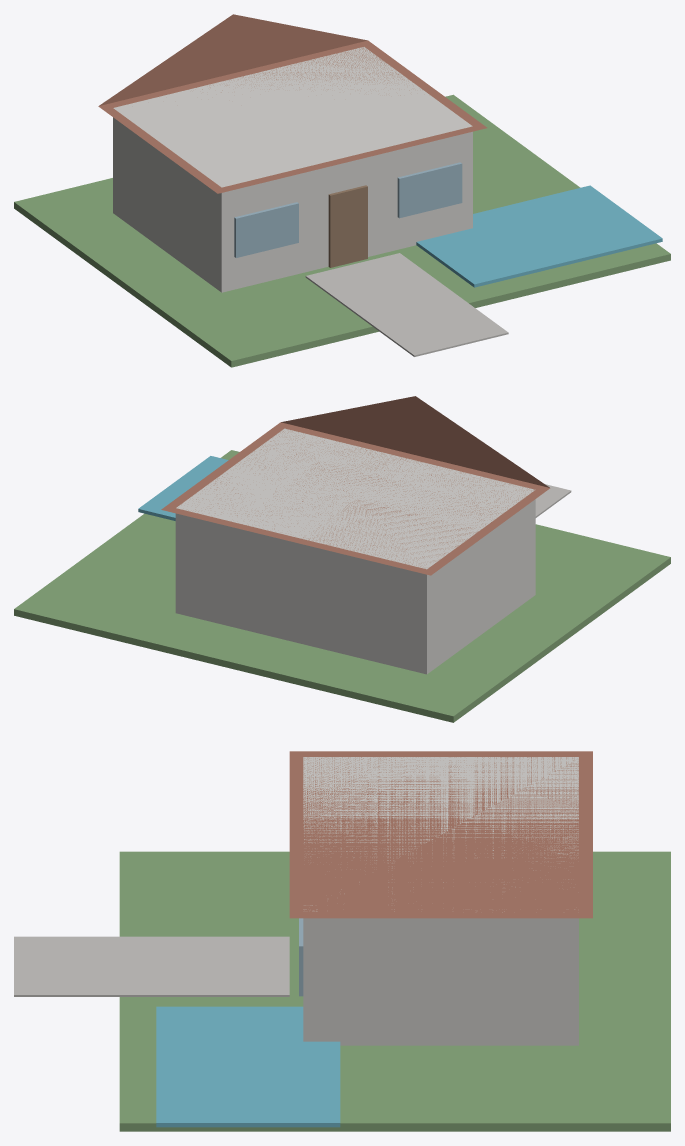
File: casa.glb
The picture shows the model from 3 angles, top to bottom: view 1: azimuth 30°, elevation 25°; view 2: azimuth 150°, elevation 25°; view 3: azimuth 270°, elevation 25°; orthographic projection. The views are drawn at different scales.
Visible parts, largest first — view 1: geometry_0; view 2: geometry_0; view 3: geometry_0.
Boxes of the visible parts, bbox=[...] form: geometry_0: bbox=[14, 14, 670, 367]; geometry_0: bbox=[14, 396, 670, 722]; geometry_0: bbox=[14, 751, 670, 1131].
Size of the model in its own units: 14.2 by 5.2 by 14.3.
